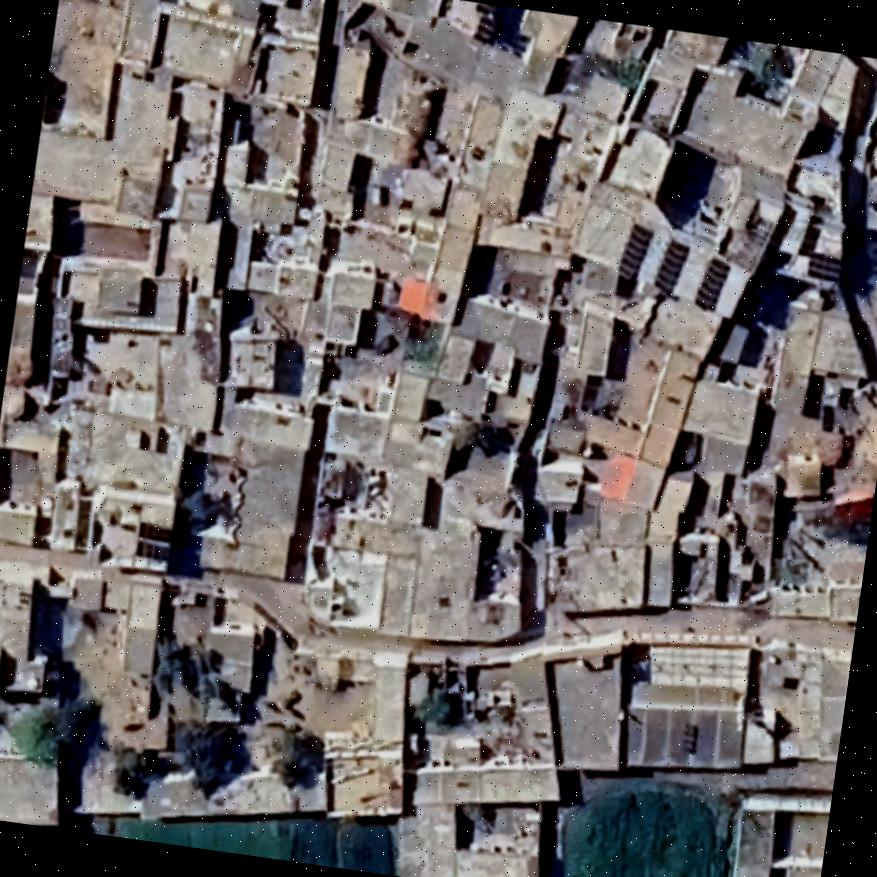Solarpanel: (651, 234, 694, 299), (688, 251, 731, 314), (616, 218, 656, 283), (471, 3, 497, 45)
